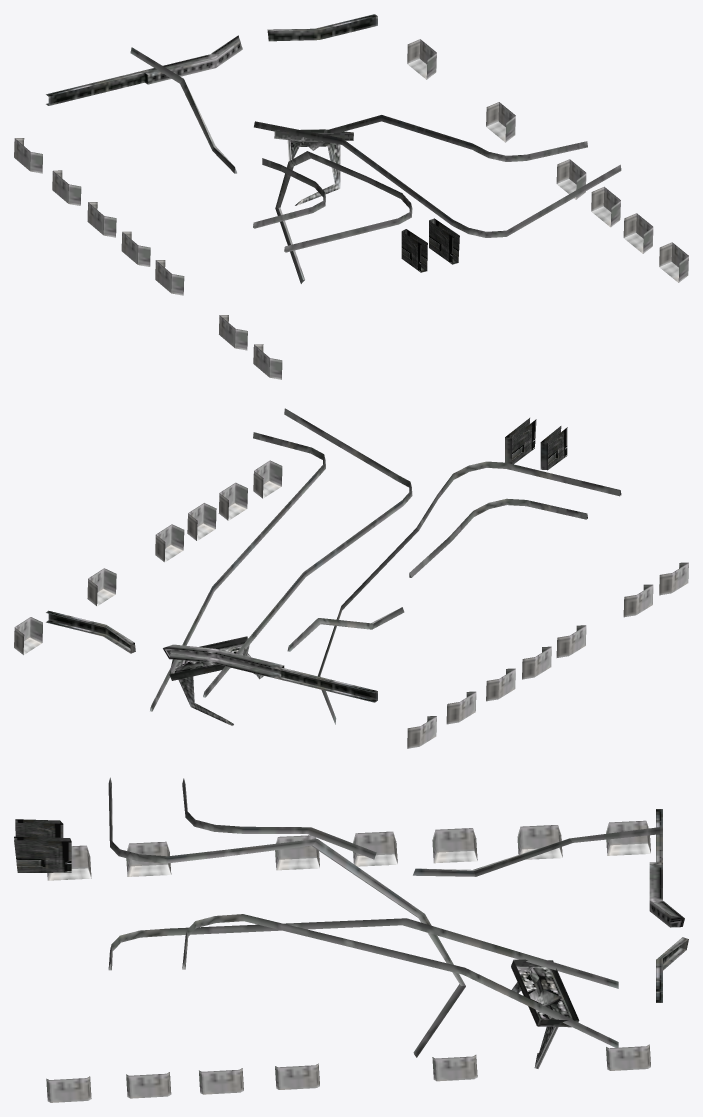
File: star_destroyer_hangar_detail_destroyed_l2.fbx
The picture shows the model from 3 angles, top to bottom: view 1: azimuth 30°, elevation 25°; view 2: azimuth 150°, elevation 25°; view 3: azimuth 270°, elevation 25°; orthographic projection. The views are drawn at different scales.
Parts seen in each view (by area): view 1: mesh_node; view 2: mesh_node; view 3: mesh_node.
Boxes of the visible parts, <box> form: mesh_node: <box>14,14,688,379</box>; mesh_node: <box>14,408,688,748</box>; mesh_node: <box>14,777,688,1102</box>.
Bounding box in the file's own units: 257 × 107 × 315.
Materials: 1 (1 with a texture image).
